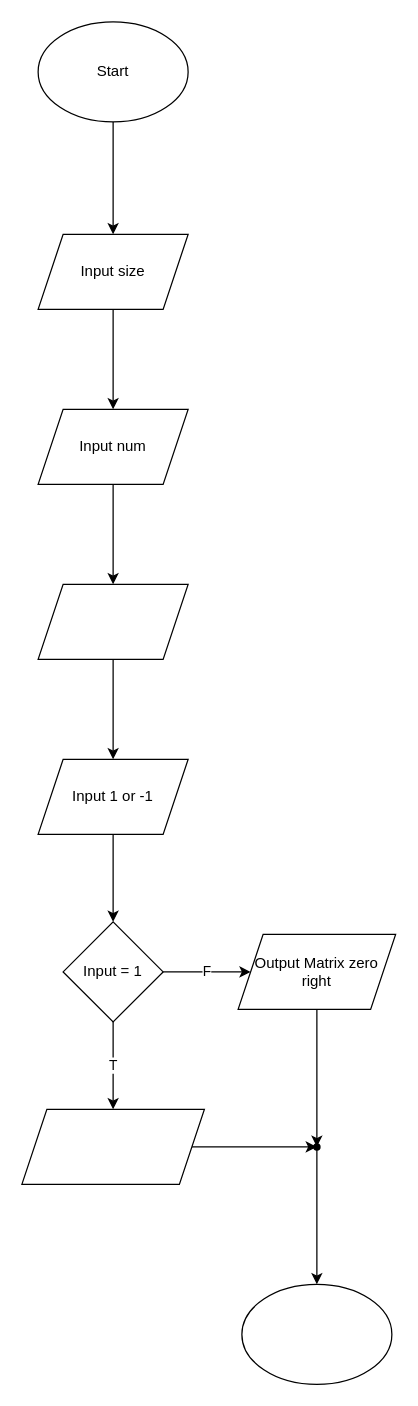
Some shapes in this 418 by 1406 pixel diagram are drawn without their labels. The box of each missing label's shape, as (x1, y1, x2, y2) in pixels:
End: (241, 1283, 392, 1384)
Output Matrix: (37, 583, 188, 659)
Output Matrix zero left: (21, 1108, 204, 1184)
